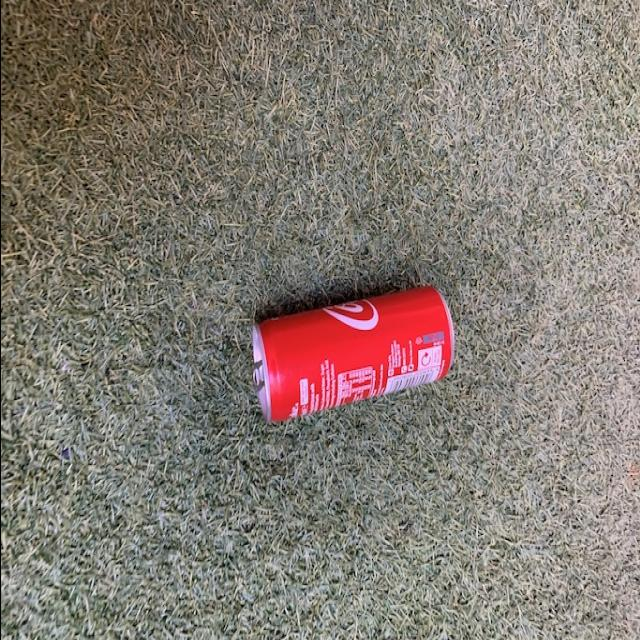Aluminum Can: (247, 268, 450, 422)
